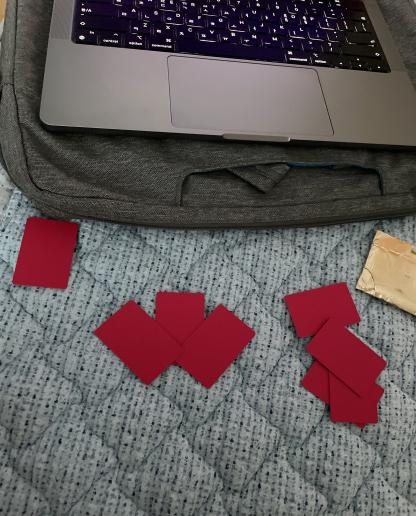ThreeHwatoo: (89, 272, 260, 402)
